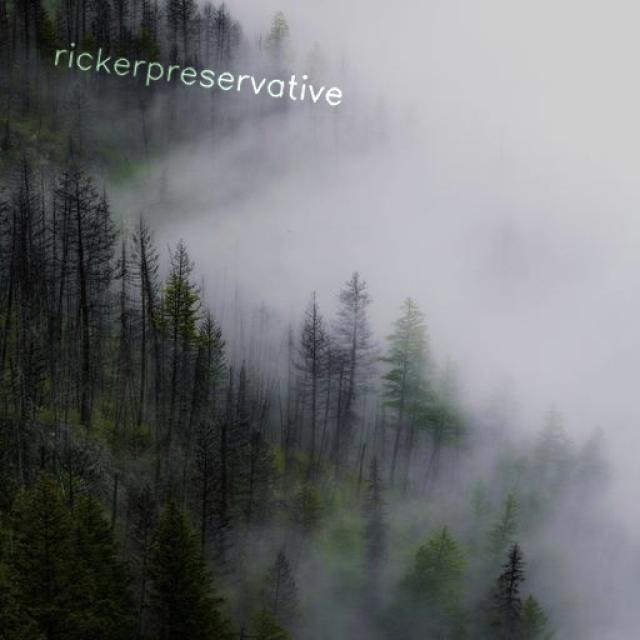watermark: (43, 38, 366, 110)
